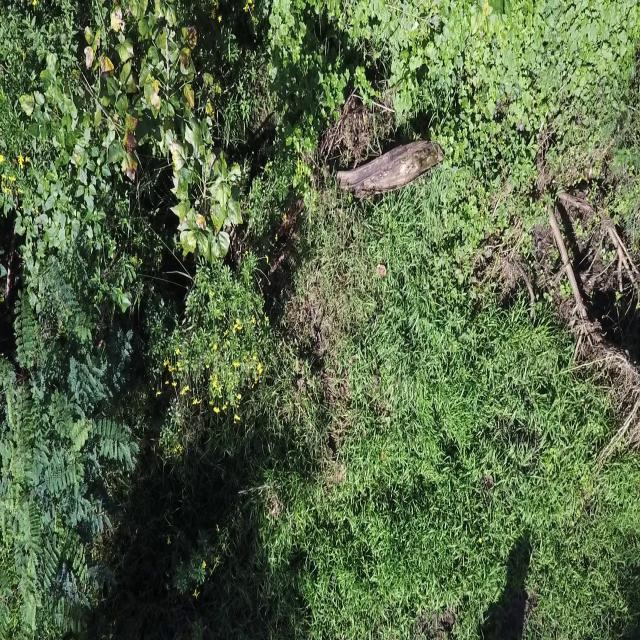Mysore-Thorn-Weed: (0, 280, 142, 640)
